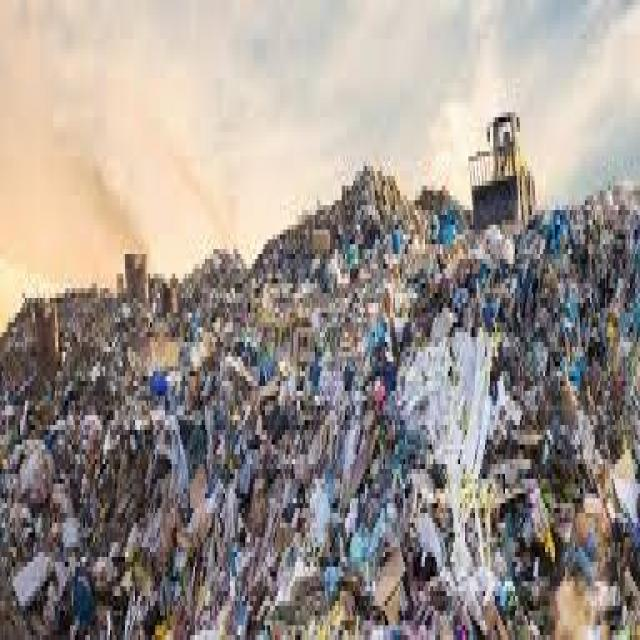heap: (235, 324, 445, 622)
